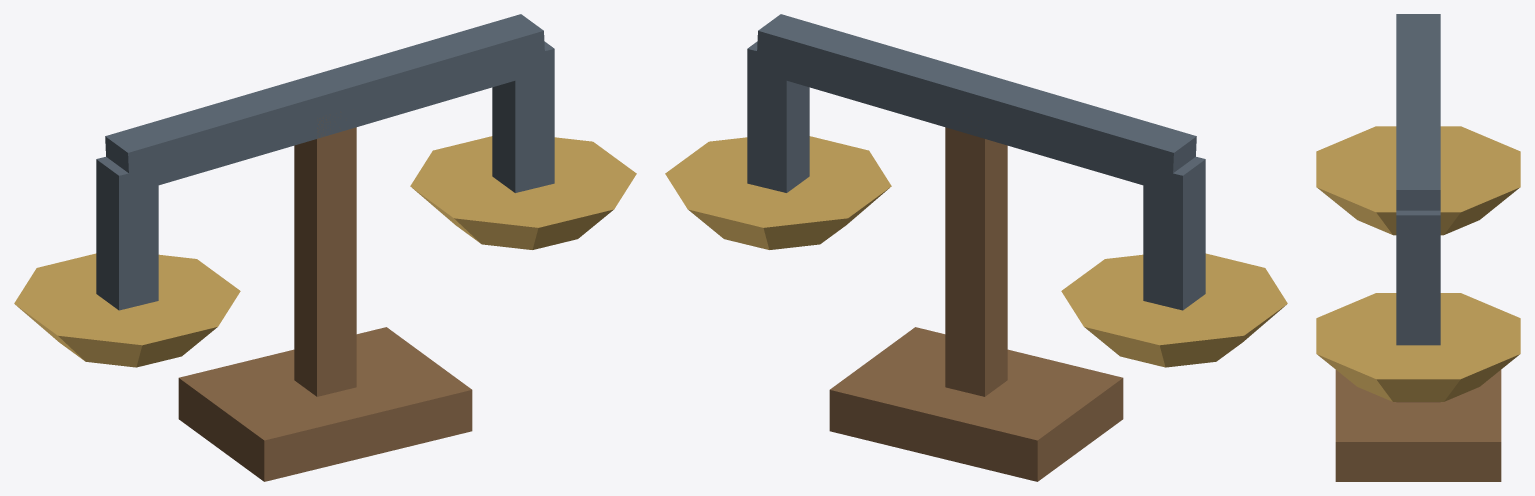
Rendered from work-scales.glb.
3 renders of one model, left to right at view 1: azimuth 30°, elevation 25°; view 2: azimuth 150°, elevation 25°; view 3: azimuth 270°, elevation 25°, orthographic. The views are drawn at different scales.
Parts seen in each view (by area): view 1: work-scales; view 2: work-scales; view 3: work-scales.
Boxes of the visible parts, box(x1,y1,x2,y2) form: work-scales: box(14, 14, 636, 481); work-scales: box(665, 14, 1287, 481); work-scales: box(1316, 14, 1520, 481).
Size of the model in its own units: 1.17 by 0.68 by 0.3696.
1 material, 1 textured.
